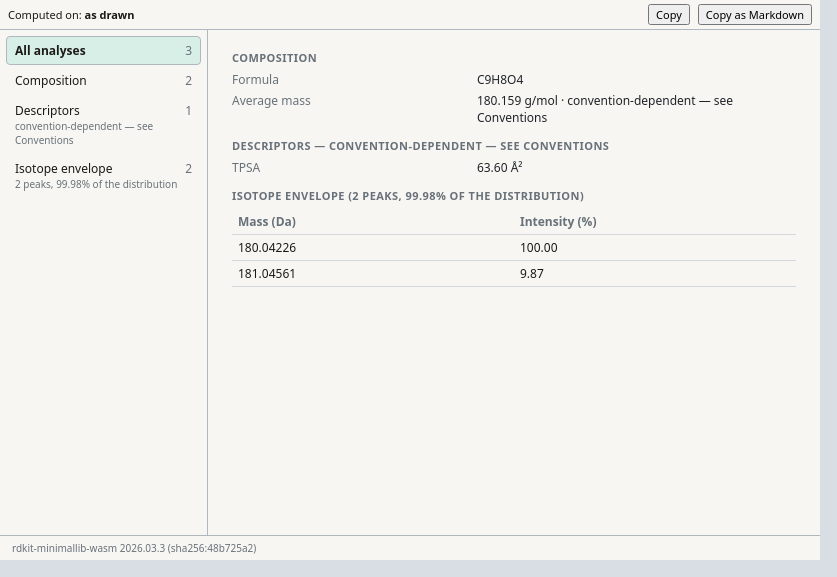
Scenario: MolecularInspectorPane › still shows Copied for a caller that reports success asynchronously
Click the button "Copy" at {"x": 669, "y": 14}, box x1=648 y1=4 x2=690 y2=25
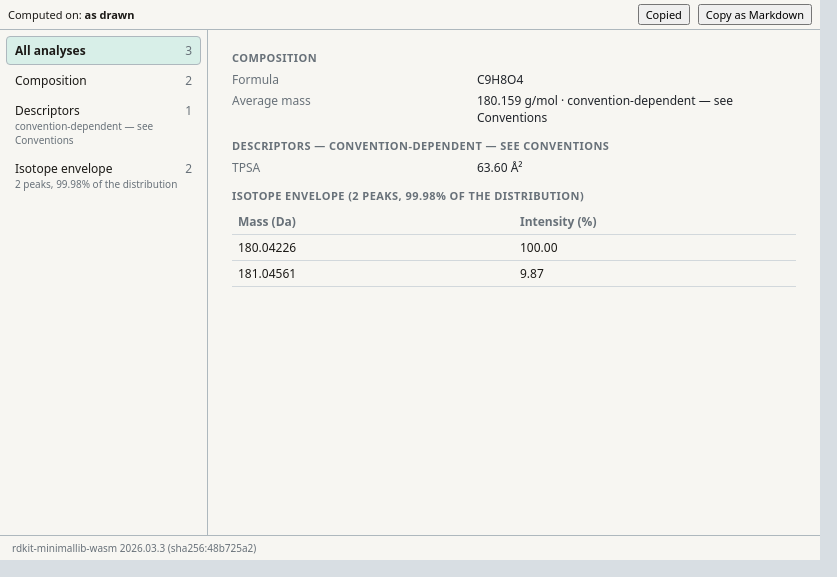
Check: the button "Copied" is shown, box x1=638 y1=4 x2=690 y2=25
